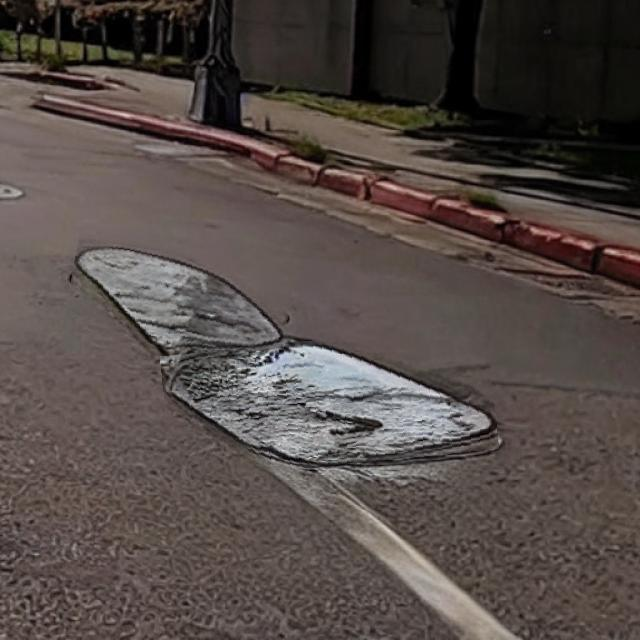puddle: (164, 332, 498, 475), (68, 242, 294, 358)
